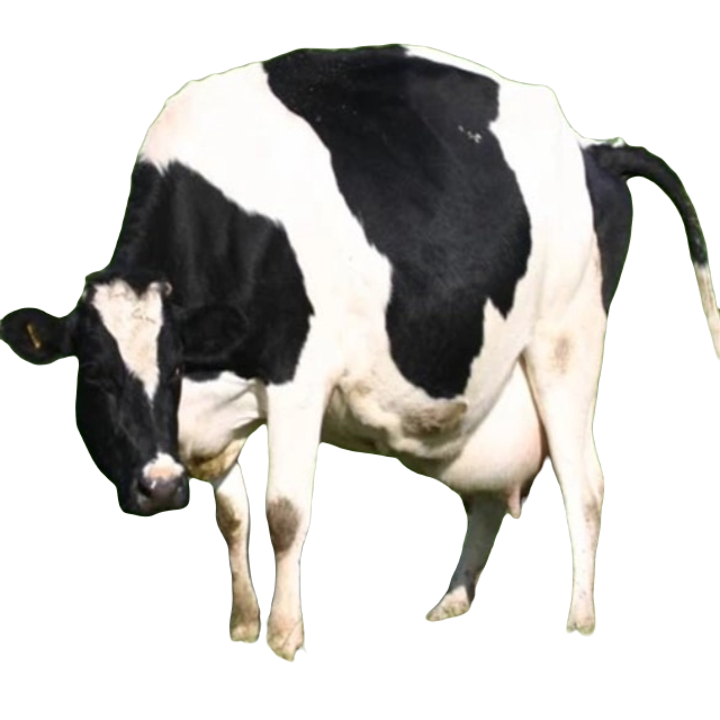Cow: (5, 40, 717, 660)
